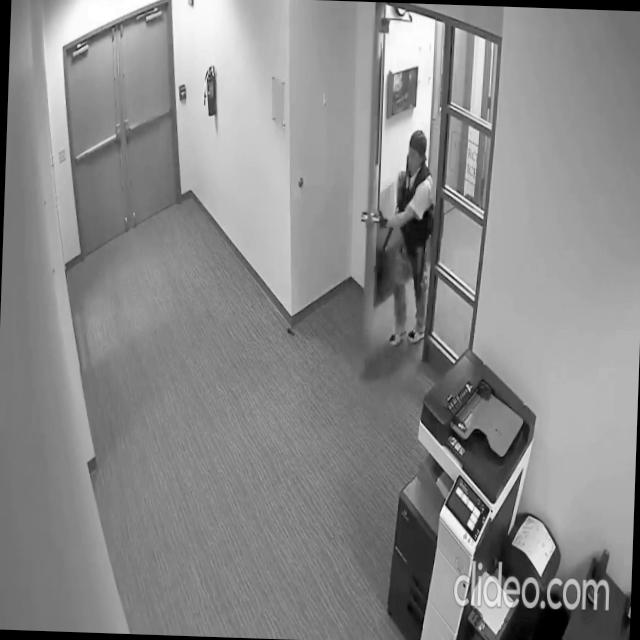gun: (377, 190, 403, 268), (415, 208, 430, 300)
person with a gun: (374, 125, 436, 348)
